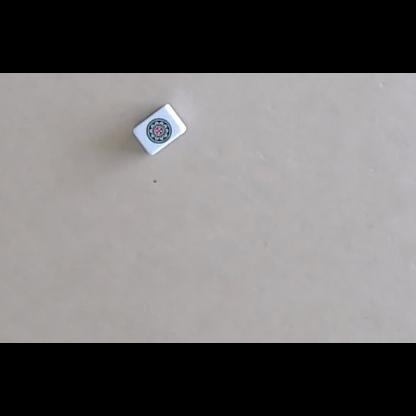1p: (146, 117, 173, 144)
